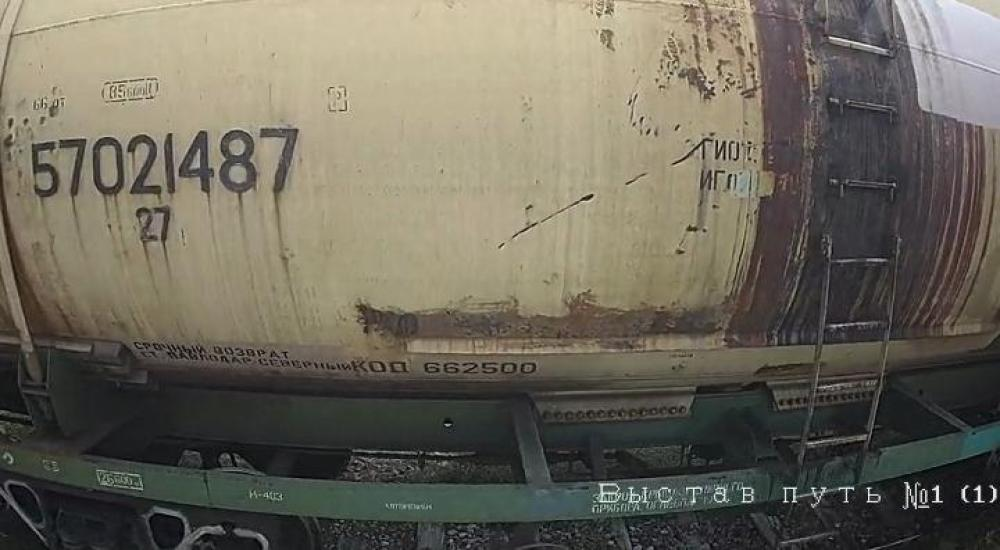Wagon-number: (26, 121, 306, 209)
